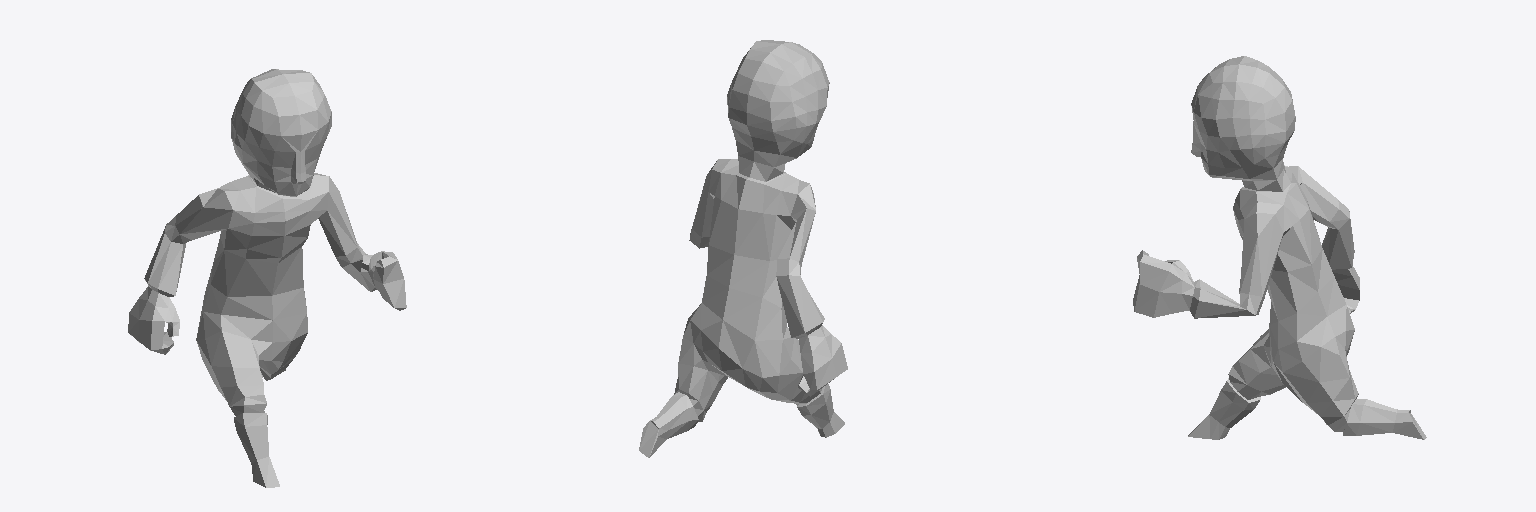
Rendered from KnightCharacter4.obj.
The picture shows the model from 3 angles: view 1: azimuth 30°, elevation 25°; view 2: azimuth 150°, elevation 25°; view 3: azimuth 270°, elevation 25°; orthographic projection.
Visible parts, largest first — view 1: Knight; view 2: Knight; view 3: Knight.
Boxes of the visible parts, <box> form: Knight: <box>128,69,406,487</box>; Knight: <box>639,40,847,457</box>; Knight: <box>1133,56,1426,439</box>.
Bounding box in the file's own units: 2.59 × 5.18 × 3.54.